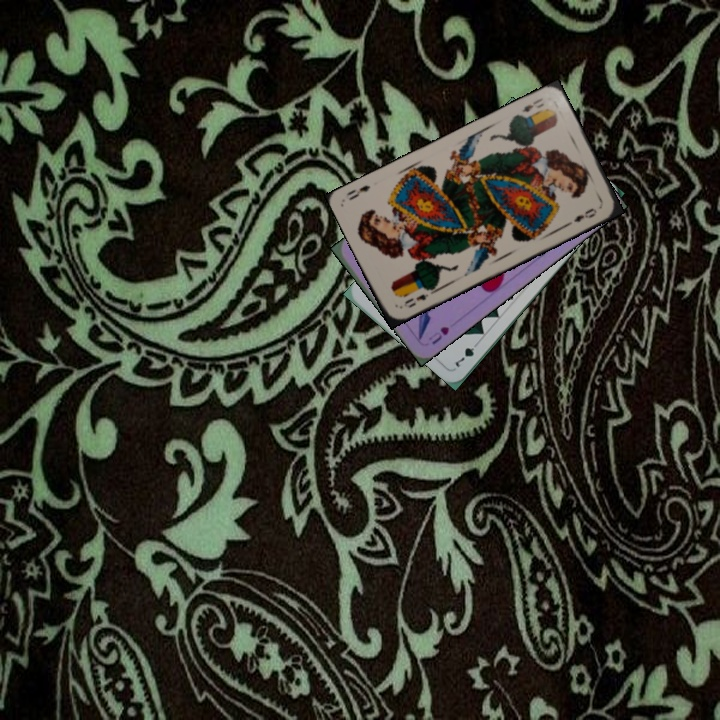EO: (400, 284, 433, 310), (517, 94, 547, 115)
G7: (451, 337, 482, 370)
HU: (424, 322, 452, 348)
